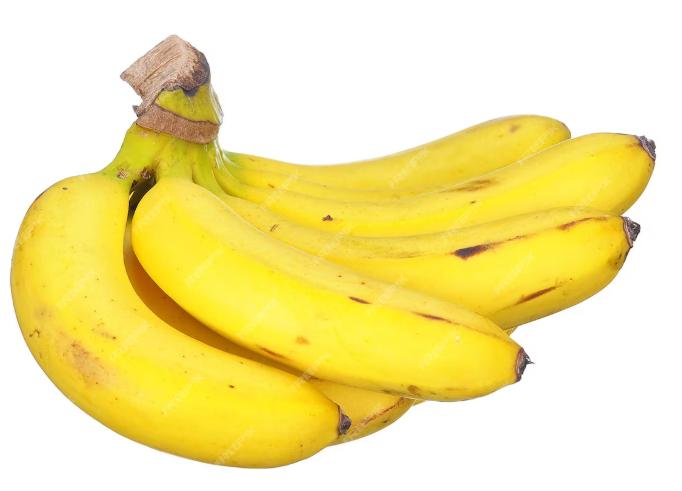banana: (13, 34, 654, 474), (17, 133, 526, 467)
